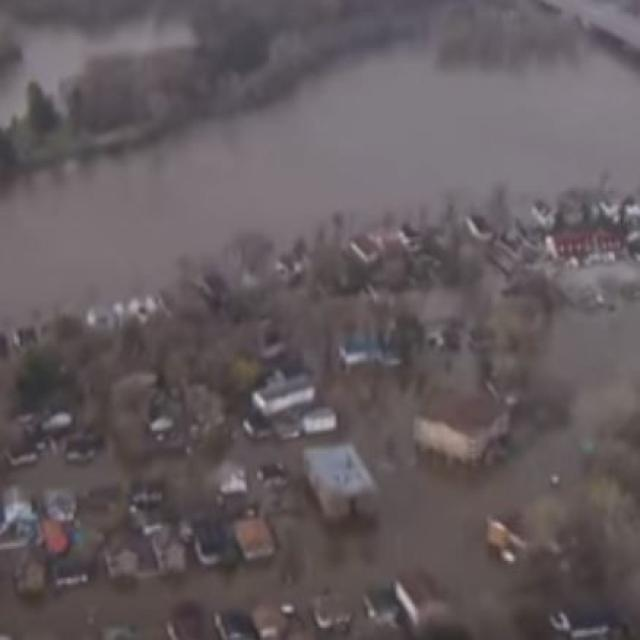flooded_areas: (0, 12, 620, 331)
